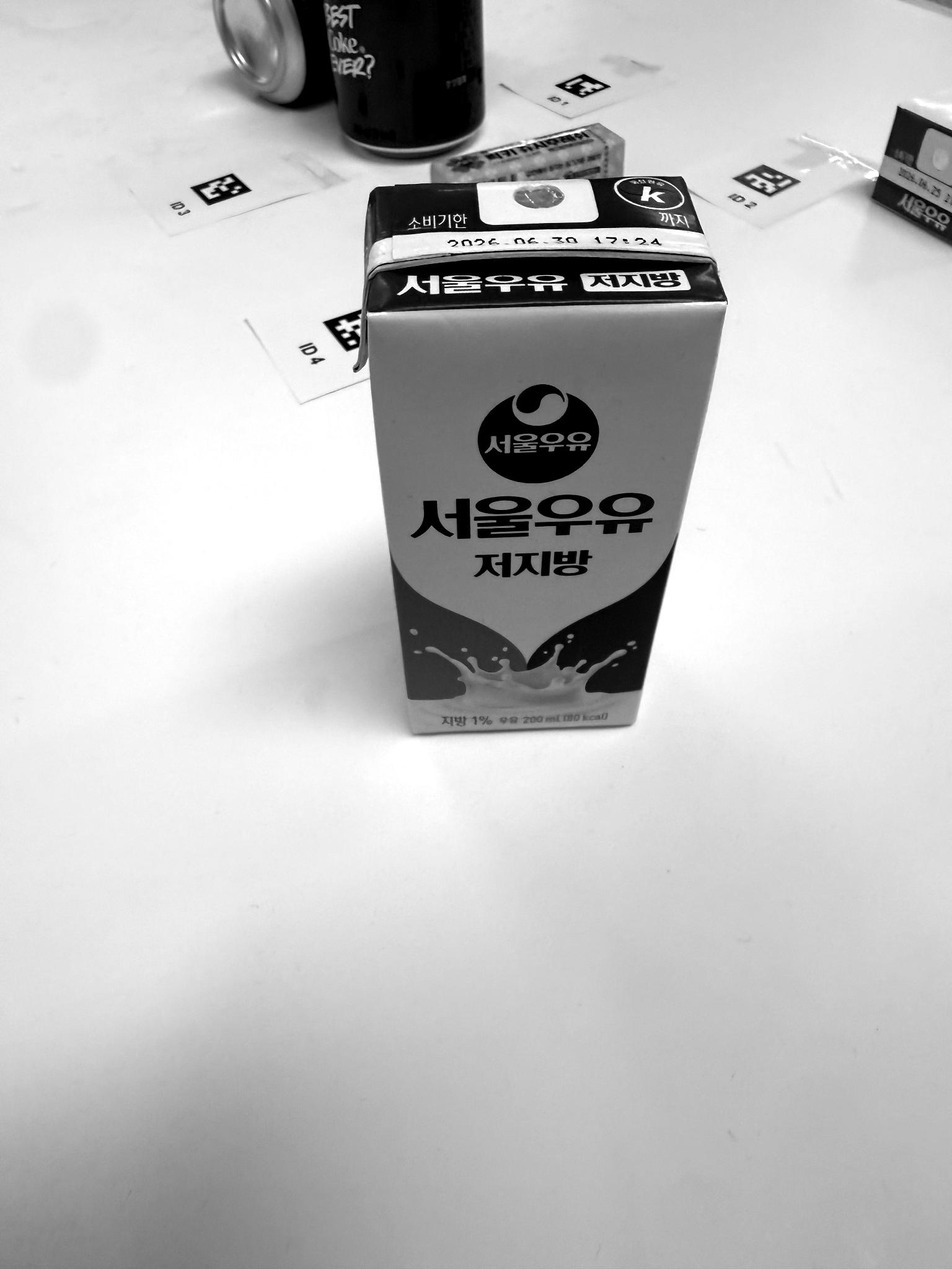milk_blue: (358, 176, 726, 736)
